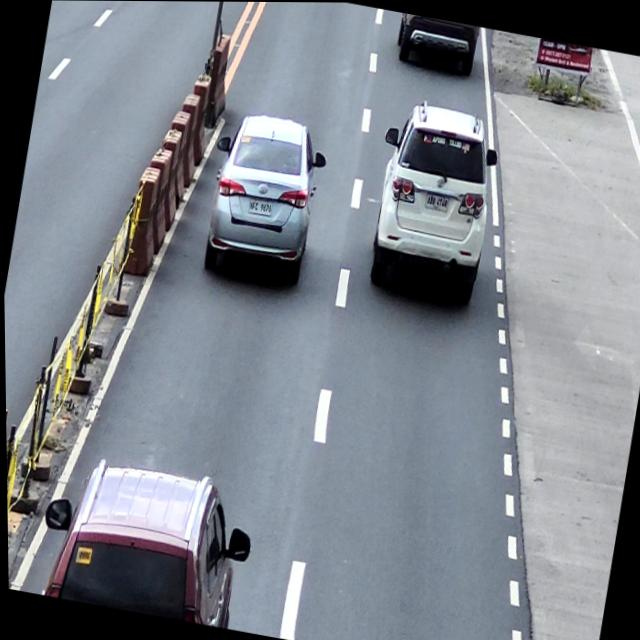Car: (28, 447, 260, 629), (357, 92, 507, 304), (194, 105, 333, 286), (392, 12, 481, 79)
License-Plate: (422, 188, 451, 213), (245, 194, 274, 217)
